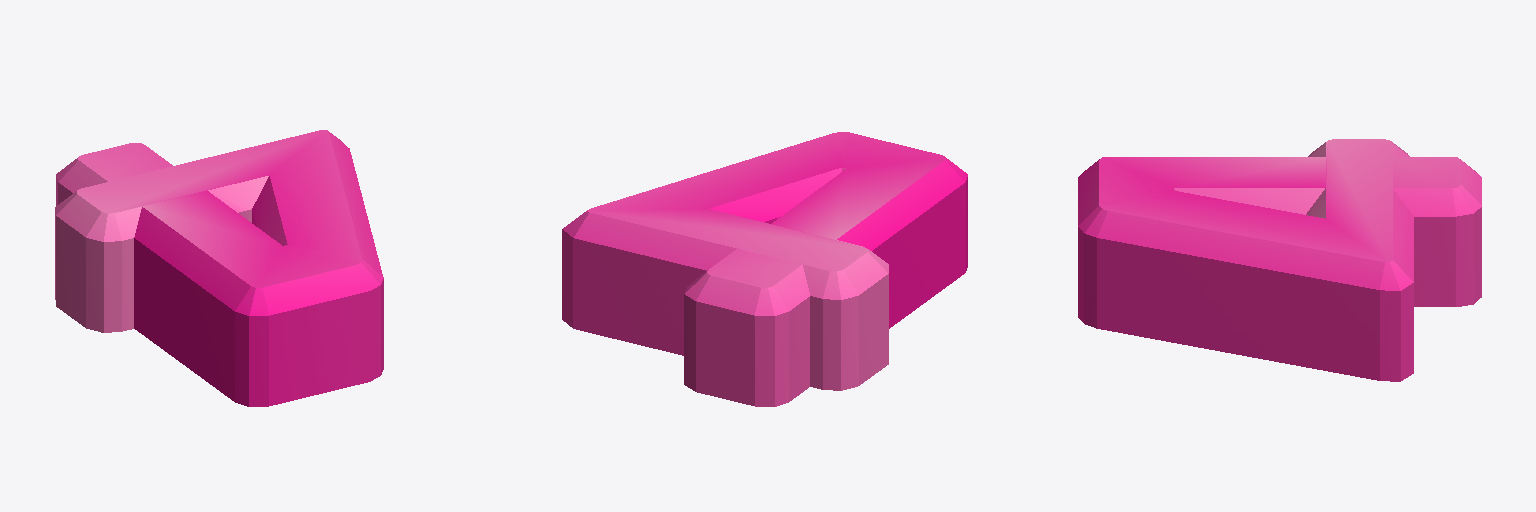
The picture shows the model from 3 angles: view 1: azimuth 30°, elevation 25°; view 2: azimuth 150°, elevation 25°; view 3: azimuth 270°, elevation 25°; orthographic projection.
Visible parts, largest first — view 1: 4; view 2: 4; view 3: 4.
Boxes of the visible parts, x1=… form: 4: x1=55, y1=130, x2=383, y2=406; 4: x1=562, y1=132, x2=967, y2=406; 4: x1=1078, y1=139, x2=1481, y2=381.
Bounding box in the file's own units: 1.74 × 0.63 × 2.1.
Materials: 1 (1 with a texture image).